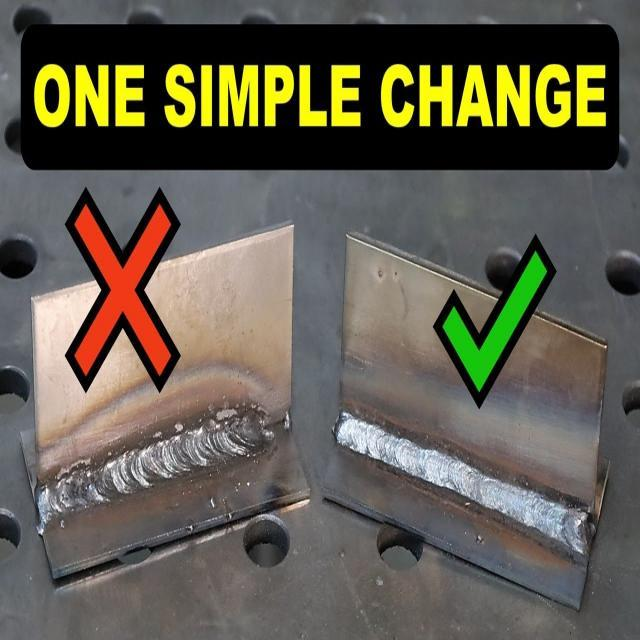Bad Welding: (36, 406, 266, 522)
Good Welding: (330, 404, 486, 498), (486, 476, 590, 552)
